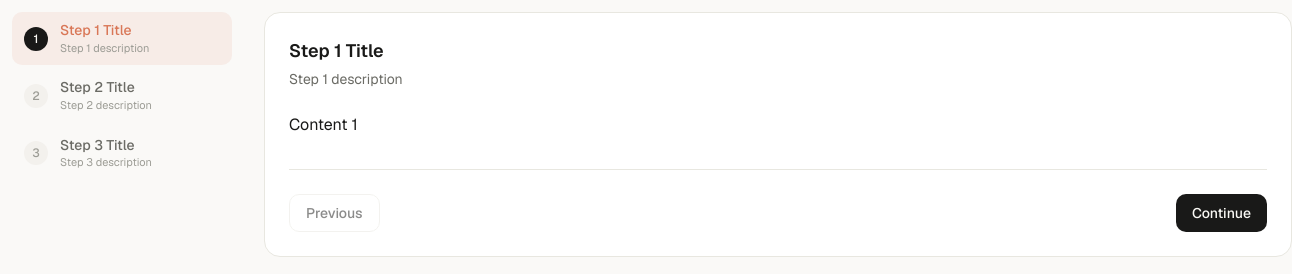
FormWizard › clicking Continue navigates to step 2
Click the button "Continue" at (1221, 213), box [1176,194,1267,232]
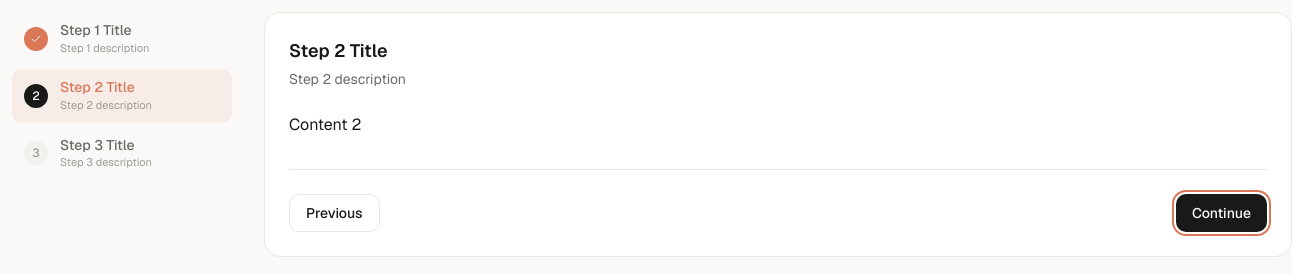
Expected: the heading "Step 2 Title" is shown, [289,39,388,62]
Expected: the text "Content 2" is shown, [289,114,362,135]
